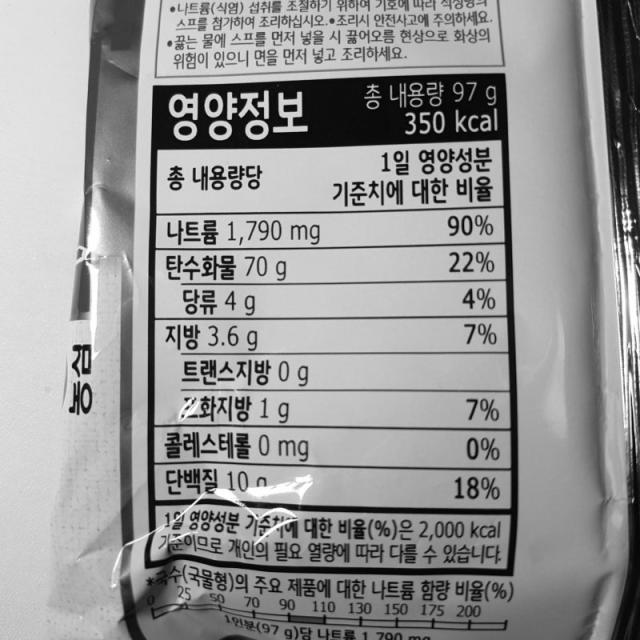Nutrition Label: (136, 59, 532, 585)
